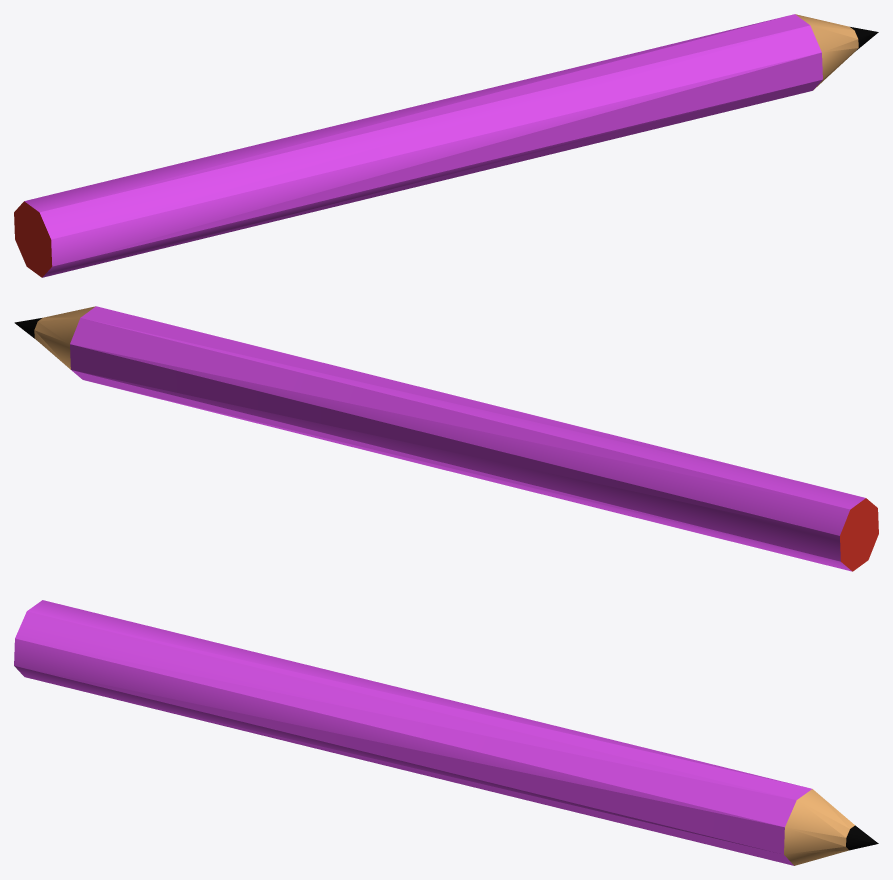
File: p_pencil.fbx
3 views of the same model, one above another, from view 1: azimuth 30°, elevation 25°; view 2: azimuth 150°, elevation 25°; view 3: azimuth 330°, elevation 25° (orthographic).
Visible parts, largest first — view 1: 실린더; view 2: 실린더; view 3: 실린더.
Boxes of the visible parts, x1,y1,x2,y2 form: 실린더: [14, 14, 878, 277]; 실린더: [14, 306, 878, 571]; 실린더: [14, 600, 878, 865].
Size of the model in its own units: 1109 by 82.02 by 93.49.
